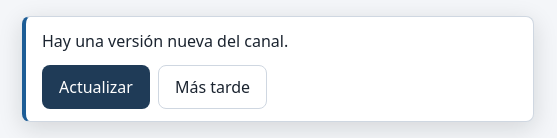
AvisoDeActualizacion › avisa la versión nueva y actualiza cuando la persona lo pide
Expected: the message shows "Hay una versión nueva del canal.", [42,30,288,52]
Click the button "Actualizar": (96, 87) [42,65,150,109]
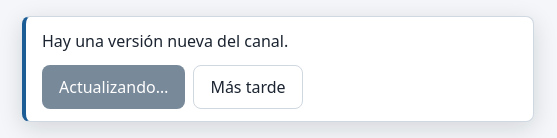
Now the button "Actualizando…" is disabled, box [42,65,185,109]
